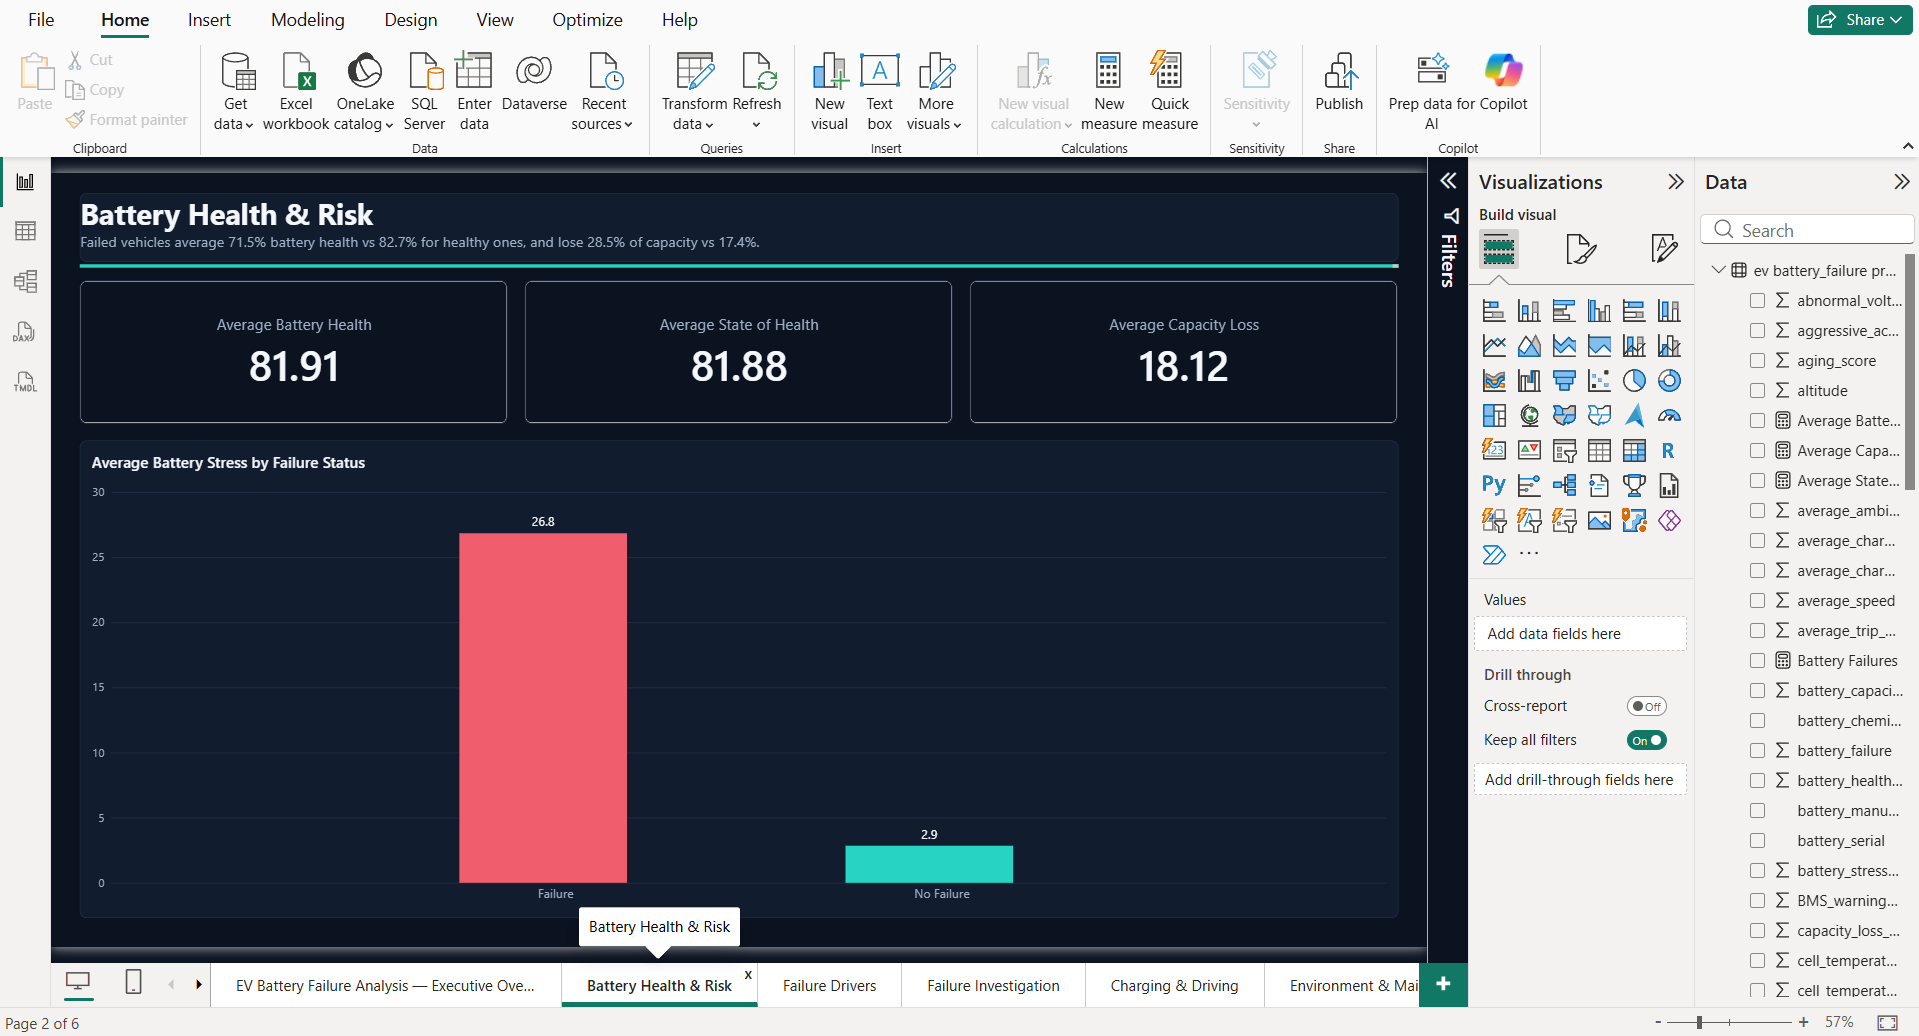

Layout of this report page (visuals, bound fields, positions):
{"tool":"powerbi","page":{"name":"Battery Health & Risk","canvas":[1920,1080],"ordinal":1},"visuals":[{"type":"cardVisual","fields":{"Data":["ev battery_failure prediction Dataset.Average Battery Health"]},"box":[40,150,597,200],"z":0},{"type":"cardVisual","fields":{"Data":["ev battery_failure prediction Dataset.Average Capacity Loss"]},"box":[1282,150,597,200],"z":1},{"type":"cardVisual","fields":{"Data":["ev battery_failure prediction Dataset.Average State of Health"]},"box":[661,150,597,200],"z":2},{"type":"clusteredColumnChart","title":"Average Battery Stress by Failure Status","fields":{"Category":["ev battery_failure prediction Dataset.Failure Status Label"],"Y":["Min(ev battery_failure prediction Dataset.battery_stress_index)"]},"box":[40,374,1840,666],"z":3},{"type":"textbox","box":[40,28,1840,96],"z":4},{"type":"textbox","box":[40,128,1840,5],"z":50}]}

Visuals, with their boxes on the page's 1920x1080 design canvas (x1, y1, x2, y2). These are canvas units, not pixel positions in the 1919x1036 screenshot, which may show the page scaled, cropped or inside an application window:
cardVisual - ev battery_failure prediction Dataset.Average Battery Health: [left=40, top=150, right=637, bottom=350]
cardVisual - ev battery_failure prediction Dataset.Average Capacity Loss: [left=1282, top=150, right=1879, bottom=350]
cardVisual - ev battery_failure prediction Dataset.Average State of Health: [left=661, top=150, right=1258, bottom=350]
"Average Battery Stress by Failure Status" clusteredColumnChart: [left=40, top=374, right=1880, bottom=1040]
textbox: [left=40, top=28, right=1880, bottom=124]
textbox: [left=40, top=128, right=1880, bottom=133]
